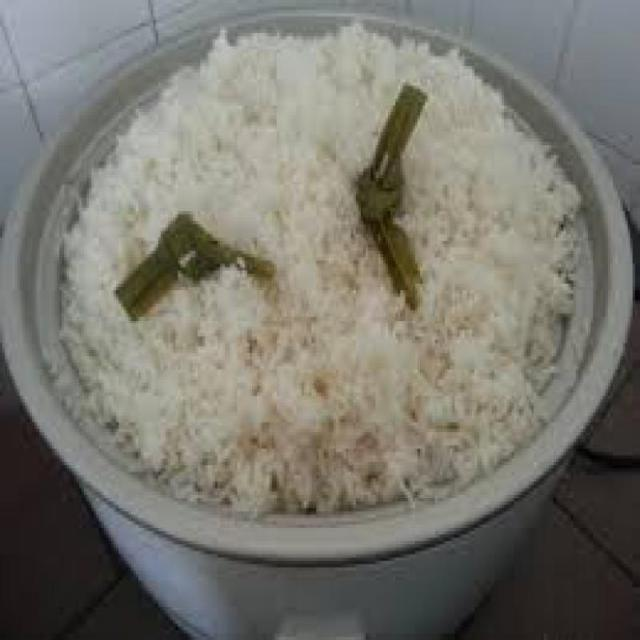nasi_putih: (60, 22, 582, 518)
